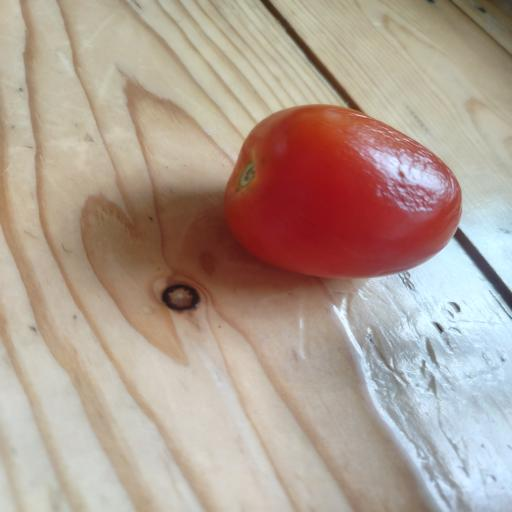ripe: (225, 105, 461, 278)
spoiled: (225, 105, 461, 278)
